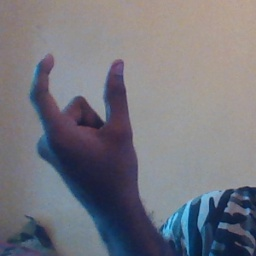U: (26, 48, 143, 193)
